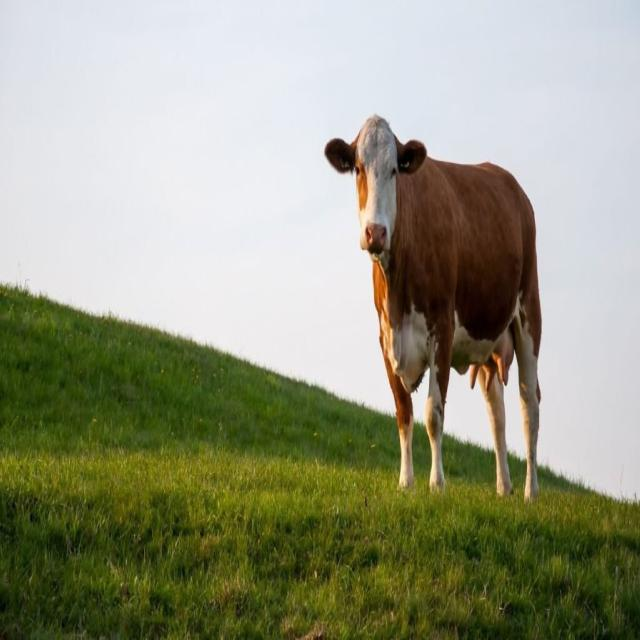cow: (321, 139, 450, 352)
